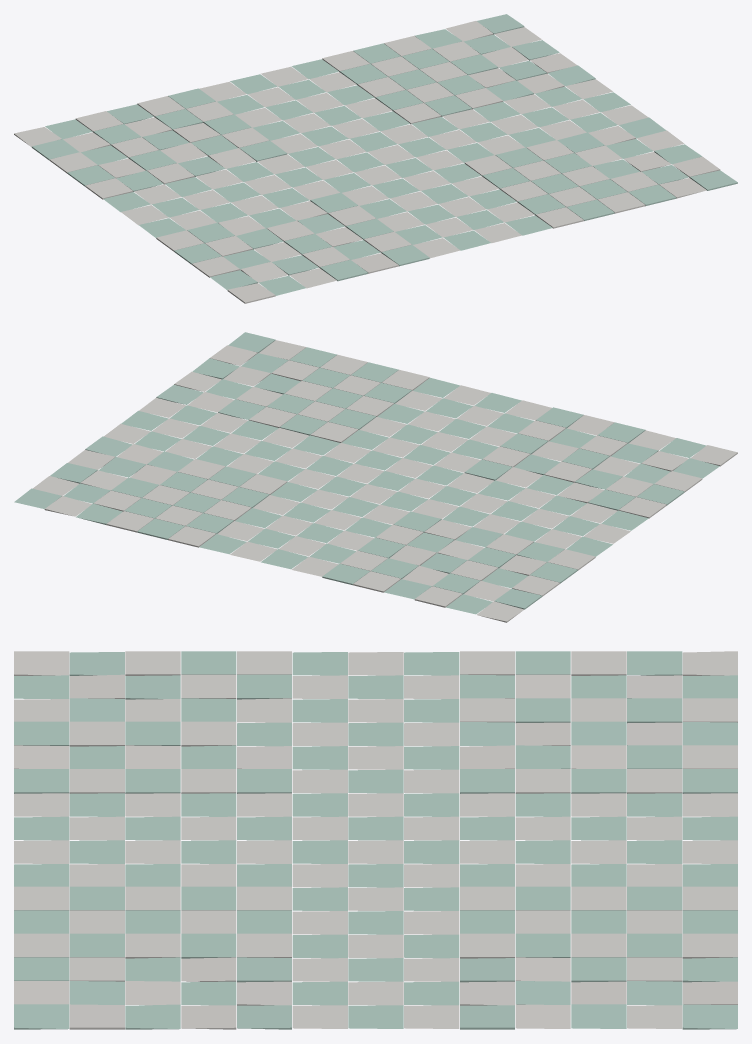
Rendered from home_floor_tiles_s3__mint_low.glb.
3 views of the same model, one above another, from view 1: azimuth 30°, elevation 25°; view 2: azimuth 150°, elevation 25°; view 3: azimuth 270°, elevation 25° (orthographic). The views are drawn at different scales.
Size of the model in its own units: 15.99 by 0.04 by 12.99.
